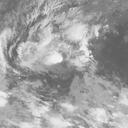cyclone: (17, 13, 92, 73)
